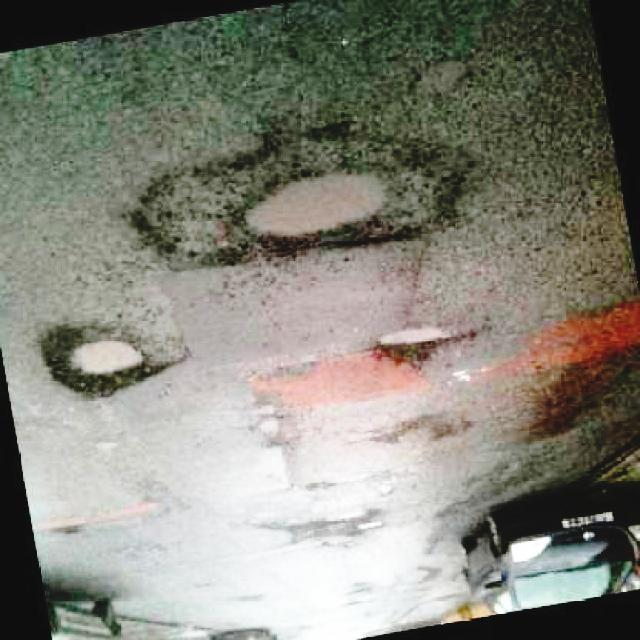pothole: (129, 121, 480, 277), (32, 314, 194, 401), (288, 506, 390, 548), (374, 322, 463, 368)
